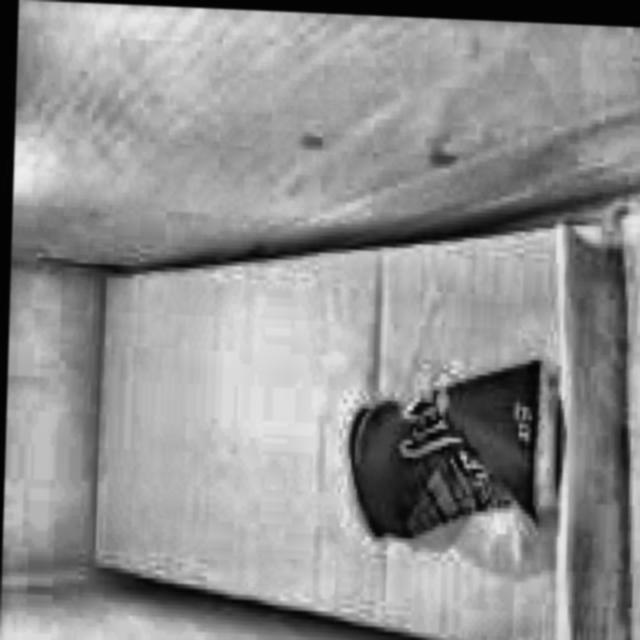can: (342, 360, 580, 542)
